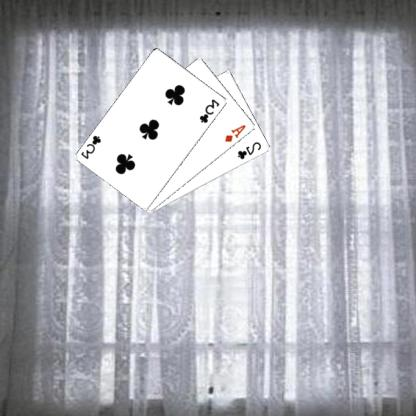2C: (236, 139, 264, 160)
3C: (198, 96, 223, 124), (80, 132, 104, 160)
AD: (224, 122, 249, 143)
